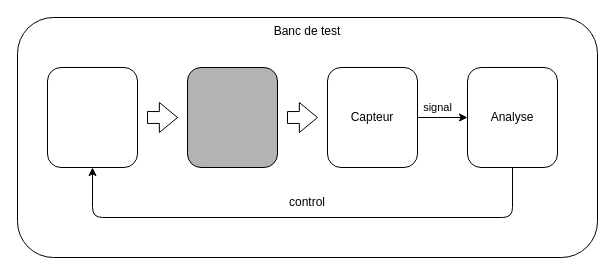
This 615x275 diagram has some shape labels left out. The box of each missing label's shape, as (x1, y1, x2, y2) in pixels:
Appareil photo: (186, 66, 278, 168)
Source de lumière: (46, 66, 138, 168)
